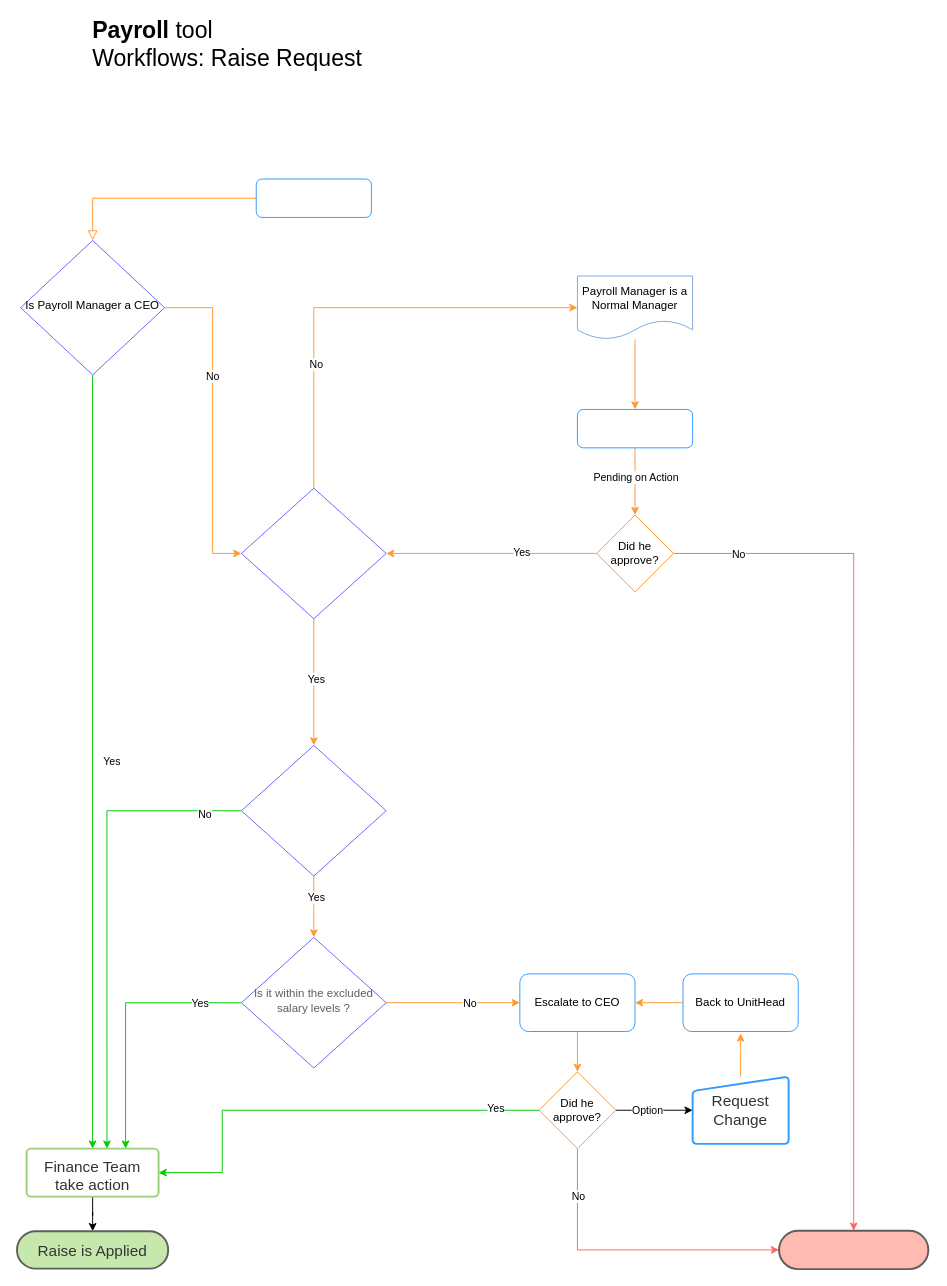
Some shapes in this 947 by 1286 pixel diagram are drawn without their labels. The centre of each missing label's shape, as x and y in pixels:
"Escalate to his Manager" belongs at point 634,428.
"Is new gross value > Employee Level Range" belongs at point 313,810.
"Is Payroll Manager a UnitHead / Reports to CEO" belongs at point 313,553.
"Payroll Manager Creates a Request" belongs at point 313,197.
"Request is Denied" belongs at point 853,1249.
